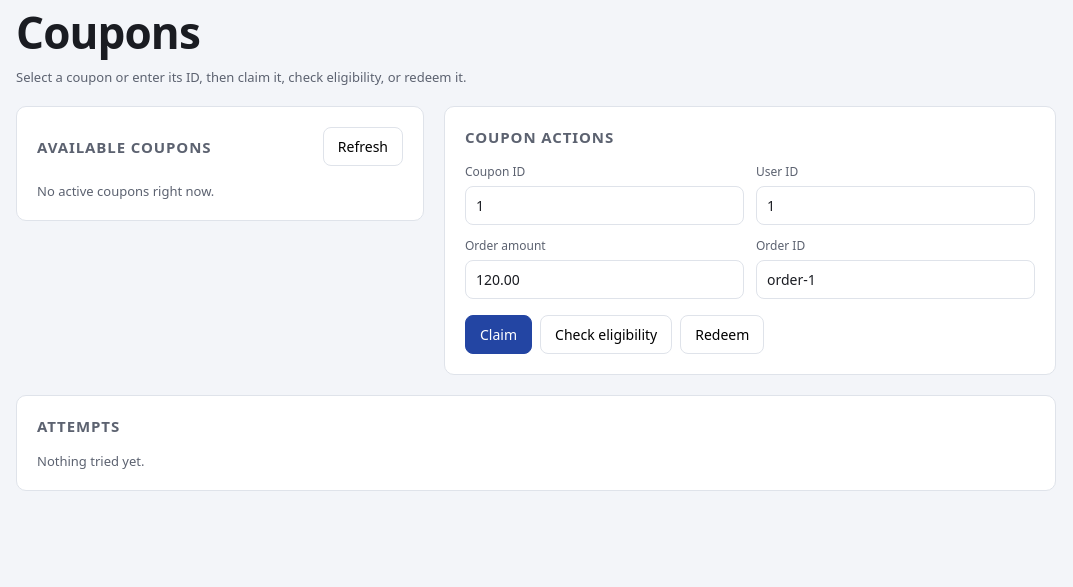
App › shows the eligibility message the service returned
Click the button "Check eligibility": (606, 334) x1=540 y1=315 x2=672 y2=354
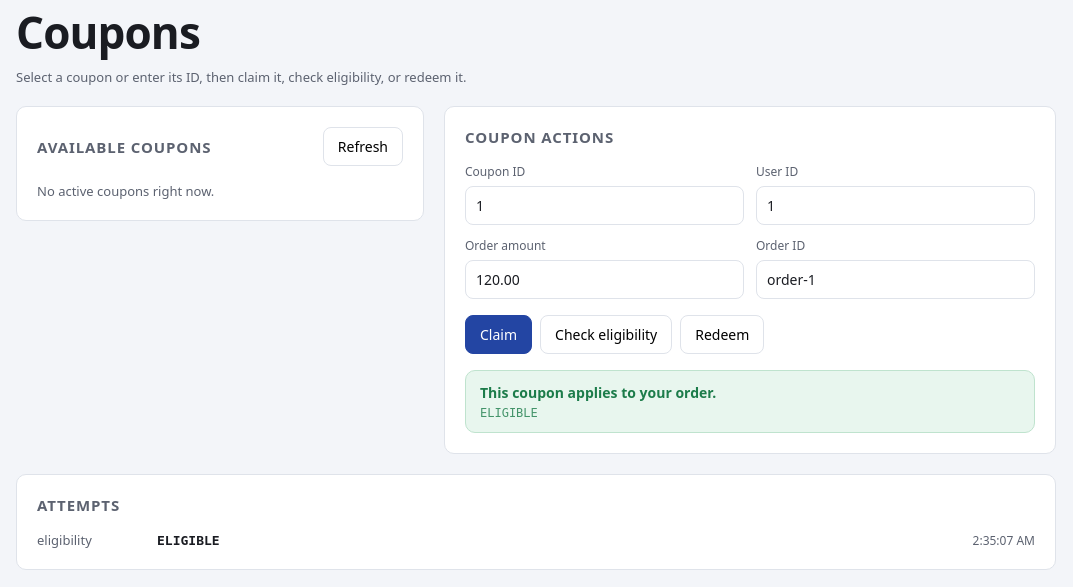
Now the text "This coupon applies to your order." is shown, box x1=480 y1=383 x2=716 y2=402
Now the text "ELIGIBLE" below "This coupon applies to your order." is shown, box x1=480 y1=406 x2=538 y2=420
